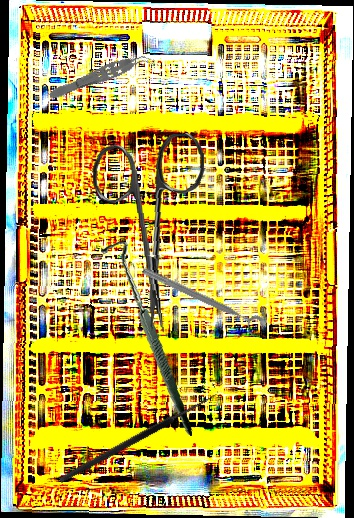Fixation Ring: (136, 263, 270, 341)
Hook Surgical: (79, 239, 215, 436), (54, 382, 221, 485)
Iris Scissors: (90, 132, 216, 336)
Tissue Forceps: (46, 47, 157, 105)
